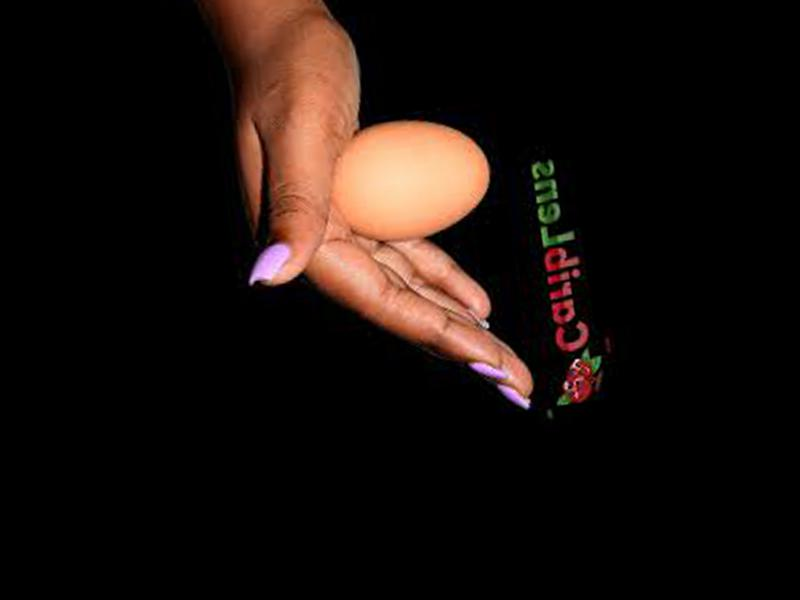Eggs: (324, 108, 498, 250)
